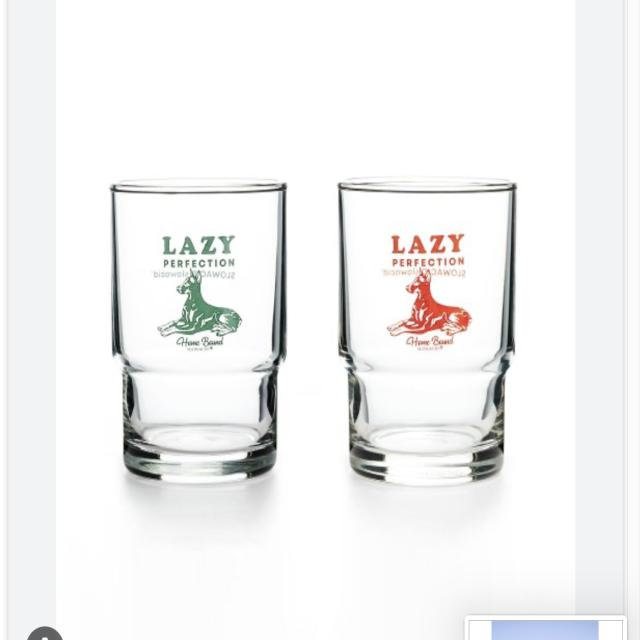recyclable: (323, 163, 535, 503), (93, 160, 297, 502)
